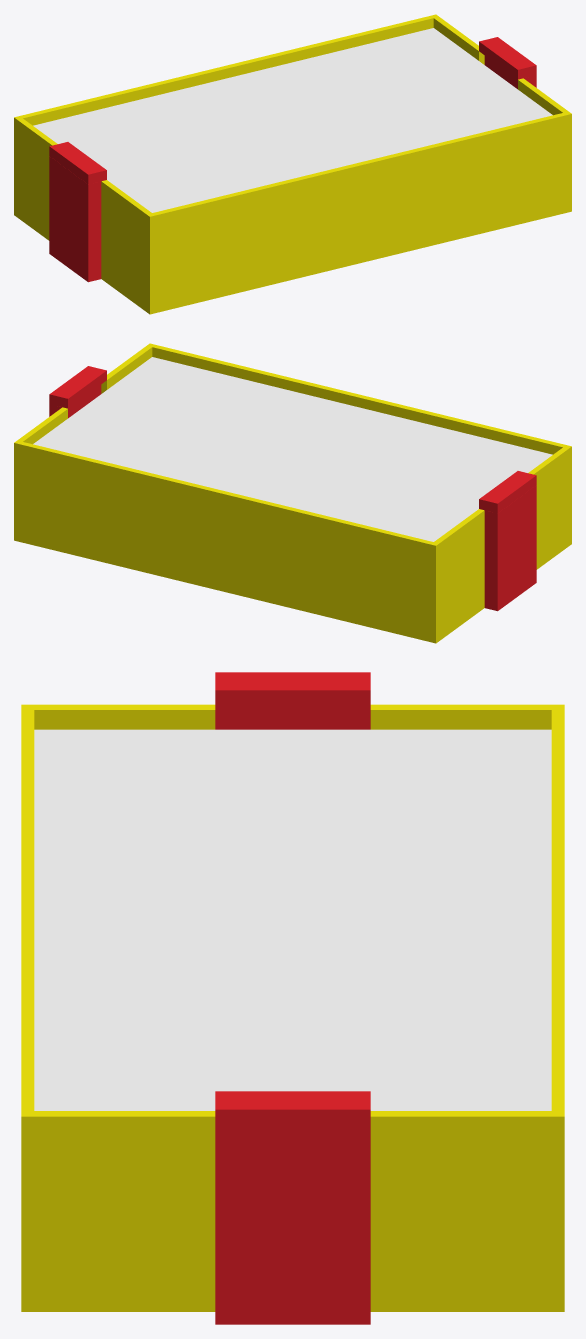
The model's file is Stage.fbx.
3 views of the same model, one above another, from view 1: azimuth 30°, elevation 25°; view 2: azimuth 150°, elevation 25°; view 3: azimuth 270°, elevation 25° (orthographic). The views are drawn at different scales.
Visible parts, largest first — view 1: Cube.001, Cube.003, Cube.006, Cube.002, Cube.011, Cube.007, Cube.010, Cube.009, Cube.005, Cube.004, Cube.008; view 2: Cube.001, Cube.002, Cube.007, Cube.003, Cube.011, Cube.006, Cube.010, Cube.009, Cube.004, Cube.005, Cube.008; view 3: Cube.001, Cube.004, Cube.005, Cube.008, Cube.009, Cube.010, Cube.002, Cube.003, Cube.006, Cube.007, Cube.011.
Part boxes in pixels (x1,y1,x2,y2): Cube.001: (33,28,552,212); Cube.003: (152,113,566,312); Cube.006: (101,180,155,314); Cube.002: (20,16,433,125); Cube.011: (49,156,101,282); Cube.007: (14,116,57,240); Cube.010: (49,142,106,184); Cube.009: (479,37,536,79); Cube.005: (518,78,571,212); Cube.004: (431,14,484,64); Cube.008: (484,55,536,89); Cube.001: (33,357,552,541); Cube.002: (19,442,433,641); Cube.007: (430,509,484,643); Cube.003: (152,345,565,454); Cube.011: (484,485,536,611); Cube.006: (528,445,571,569); Cube.010: (479,471,536,513); Cube.009: (49,366,106,408); Cube.004: (14,407,67,541); Cube.005: (101,343,154,393); Cube.008: (49,384,101,418); Cube.001: (34,729,551,1110); Cube.004: (370,1111,564,1311); Cube.005: (21,1111,215,1311); Cube.008: (215,1129,370,1324); Cube.009: (215,1091,370,1129); Cube.010: (215,672,370,709); Cube.002: (551,710,564,1110); Cube.003: (21,710,34,1110); Cube.006: (21,704,215,729); Cube.007: (370,704,564,729); Cube.011: (215,710,370,729).
Bounding box in the file's own units: 4801 × 1100 × 2520.
